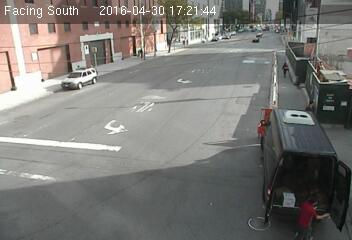neg: (195, 63, 226, 104), (70, 144, 98, 181), (137, 152, 163, 187), (153, 90, 177, 122), (89, 100, 113, 131), (14, 195, 36, 225), (272, 164, 292, 191), (48, 64, 66, 89), (291, 91, 307, 112), (33, 104, 49, 125), (253, 38, 268, 58)
pos: (289, 188, 325, 236), (275, 55, 294, 80)
